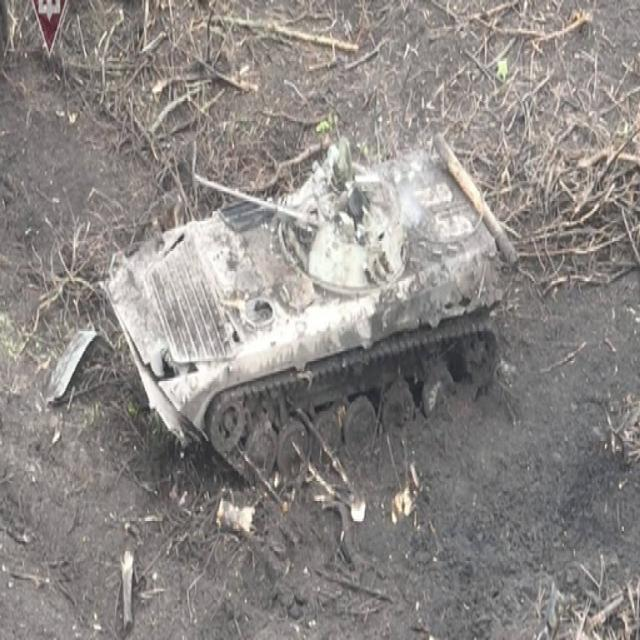APC-IFV: (96, 127, 522, 482)
